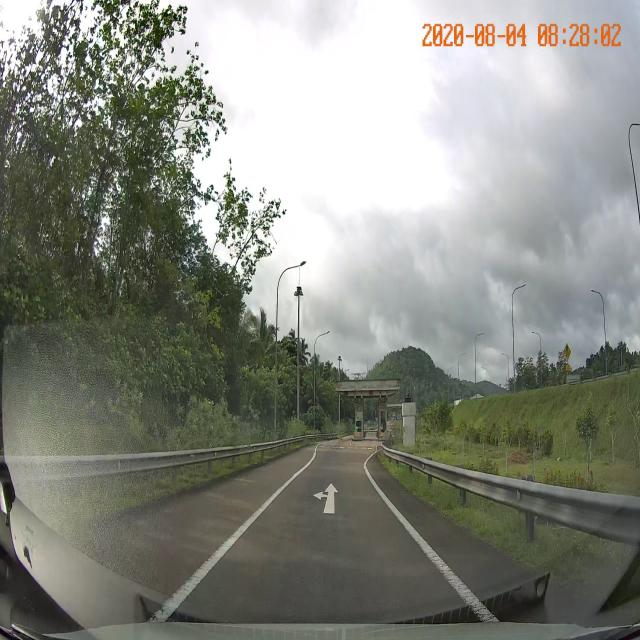forward_lft: (242, 470, 420, 528)
